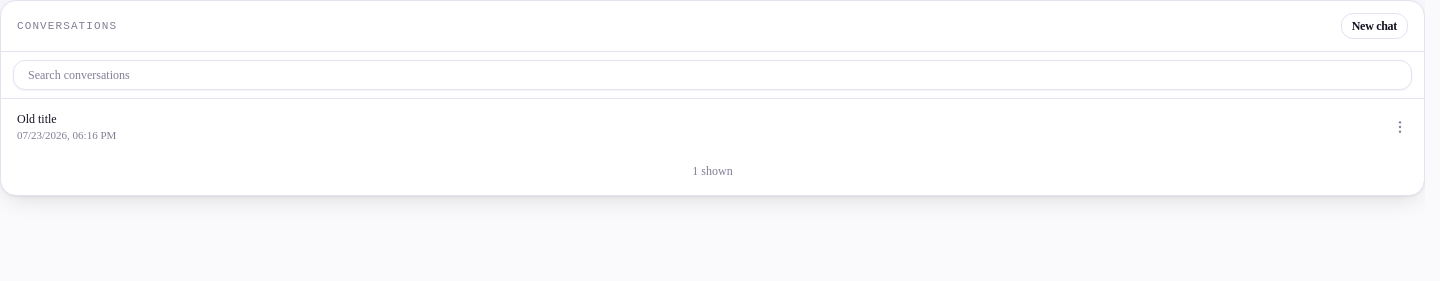
Test: AiConversationList inline rename › opens an inline editor prefilled with the current title
Click the button named "conversation options" at (1400, 127), box [1384,111,1416,143]
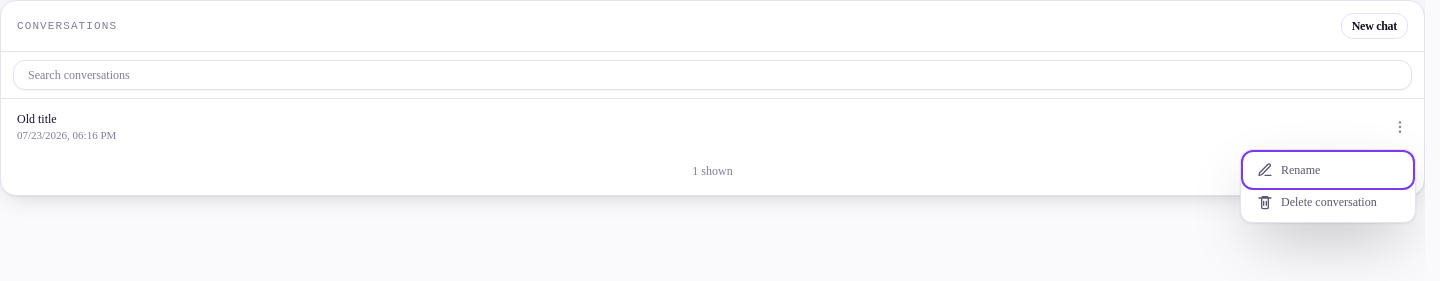
Click the menu item "Rename" at (1328, 170), box [1245,154,1411,186]
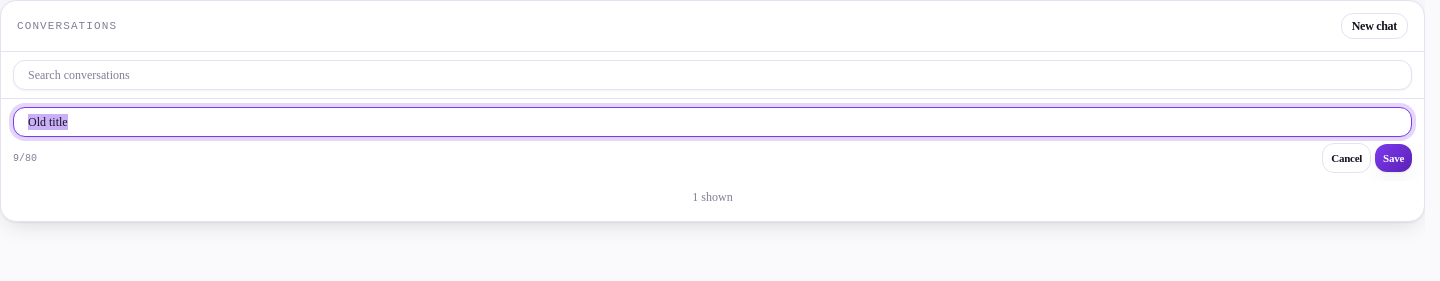
Check: the field named "conversation title" holds "Old title", box [13,107,1412,137]
